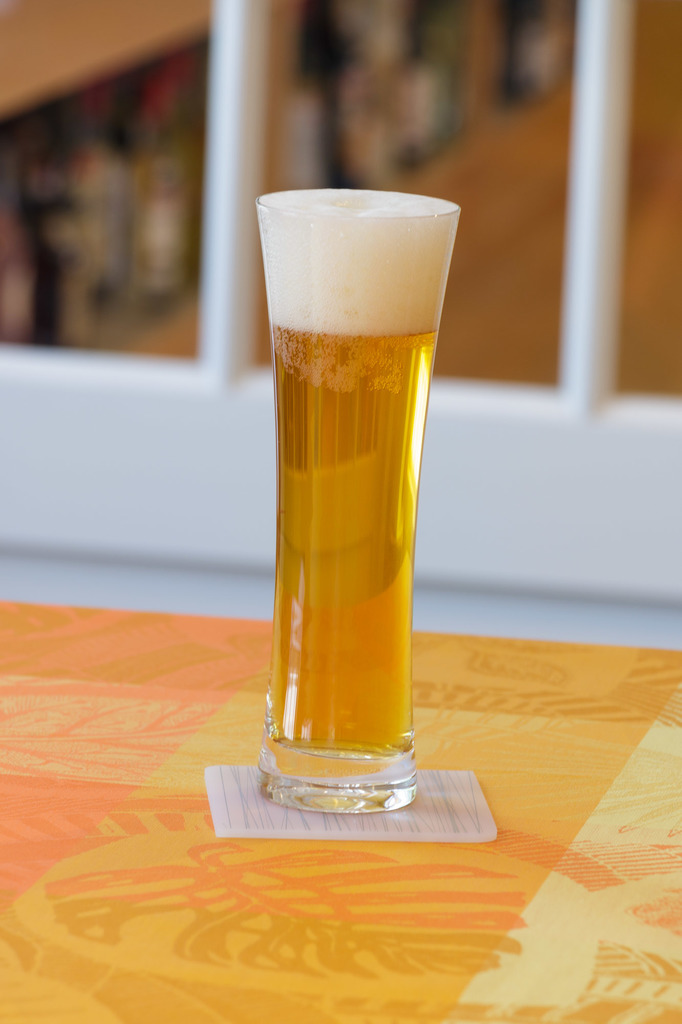Beer: (253, 188, 461, 812)
